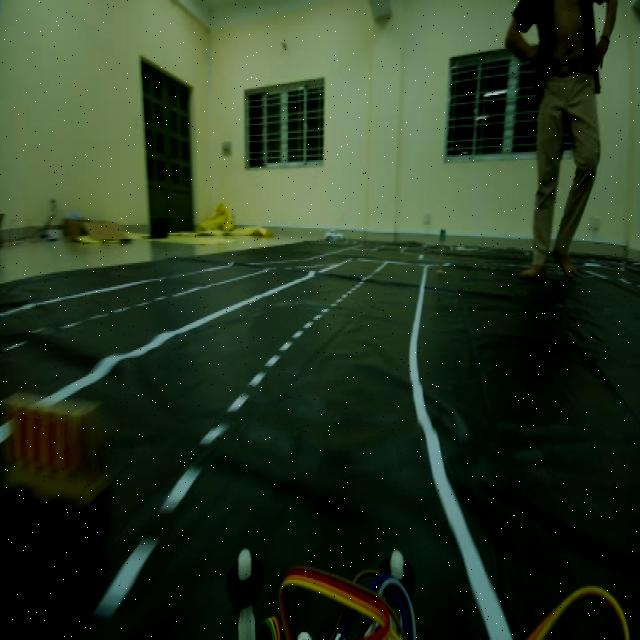roadblock: (5, 388, 109, 513)
